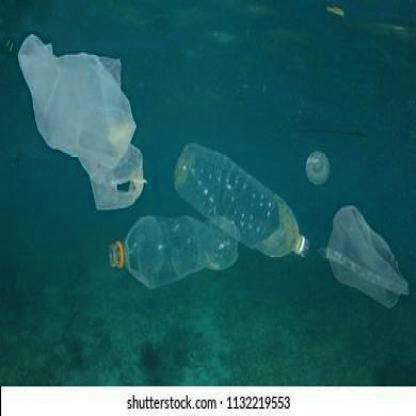pbag: (7, 28, 150, 207), (314, 204, 410, 320)
pbottle: (164, 141, 324, 257), (96, 213, 249, 294)
plastic: (299, 140, 335, 188)
